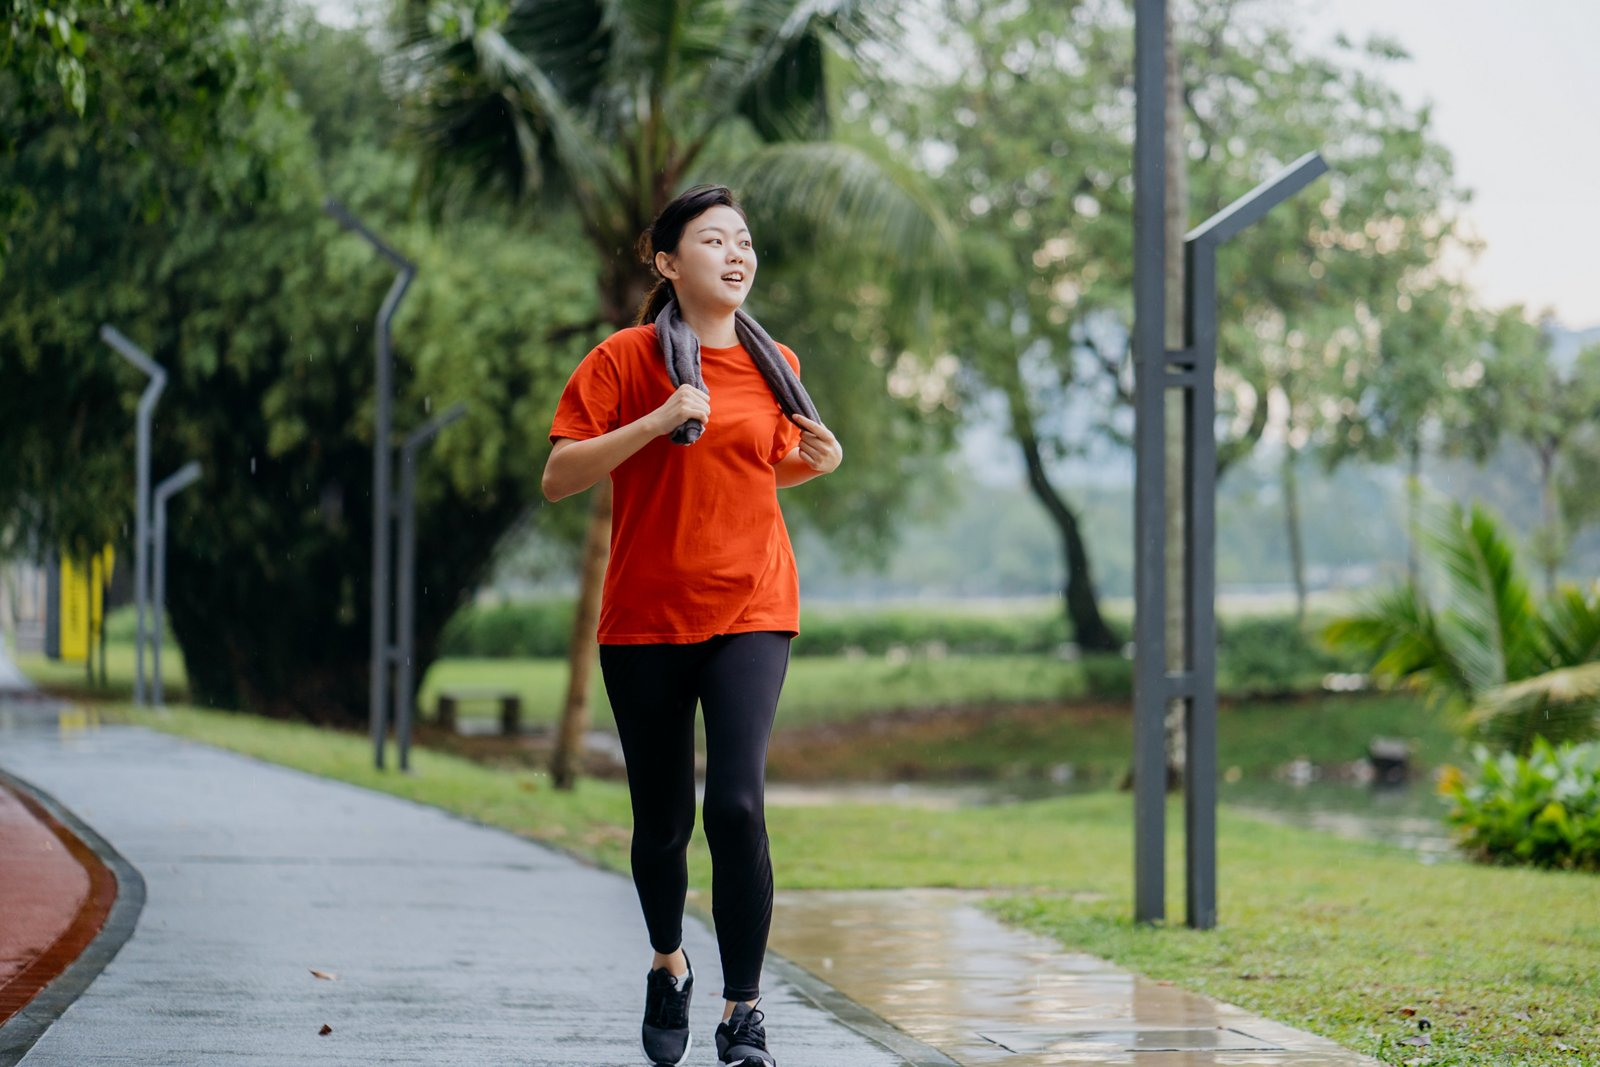person: (535, 181, 837, 1067)
